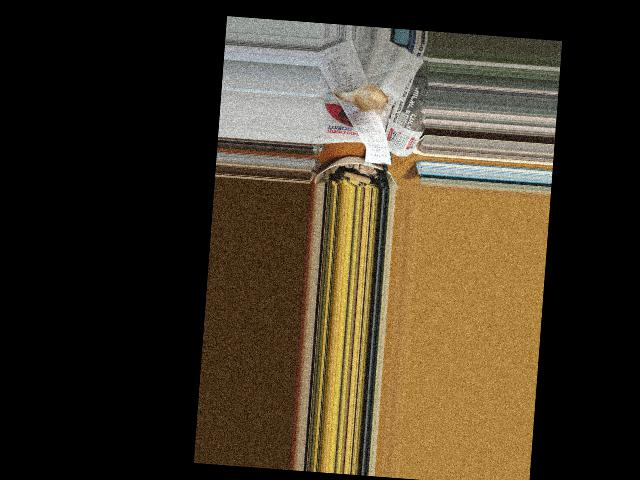onion: (344, 85, 392, 113)
